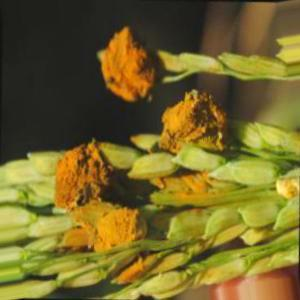Leaf_Scald: (99, 36, 166, 108), (52, 144, 108, 224), (157, 99, 226, 150), (74, 211, 148, 254)
